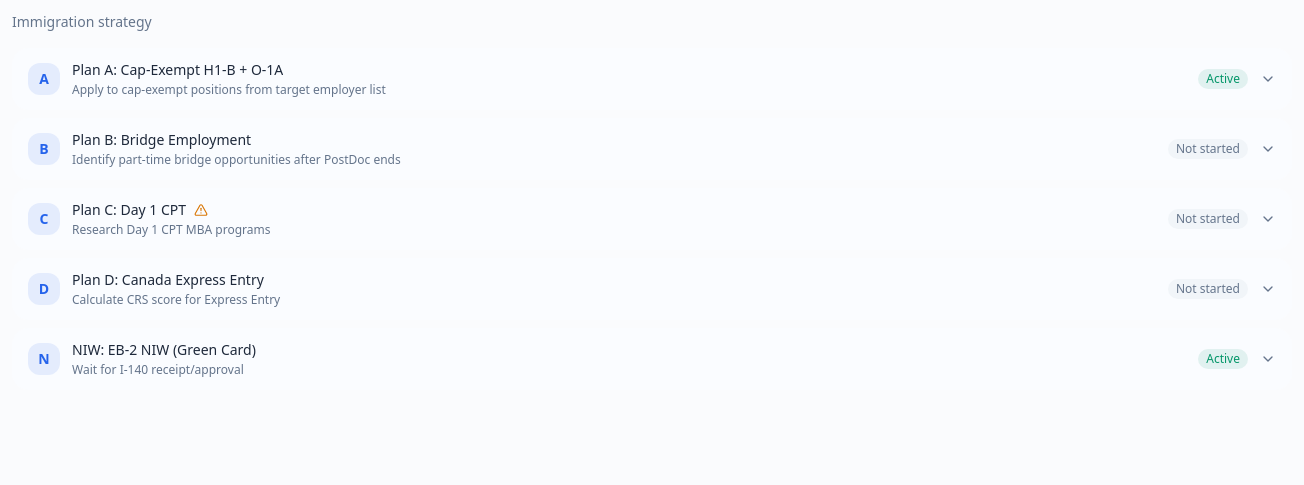
StrategyMap › click plan -> detail view with notes
Click the button that starts with "Plan A": [44, 79] box [12, 48, 1292, 110]
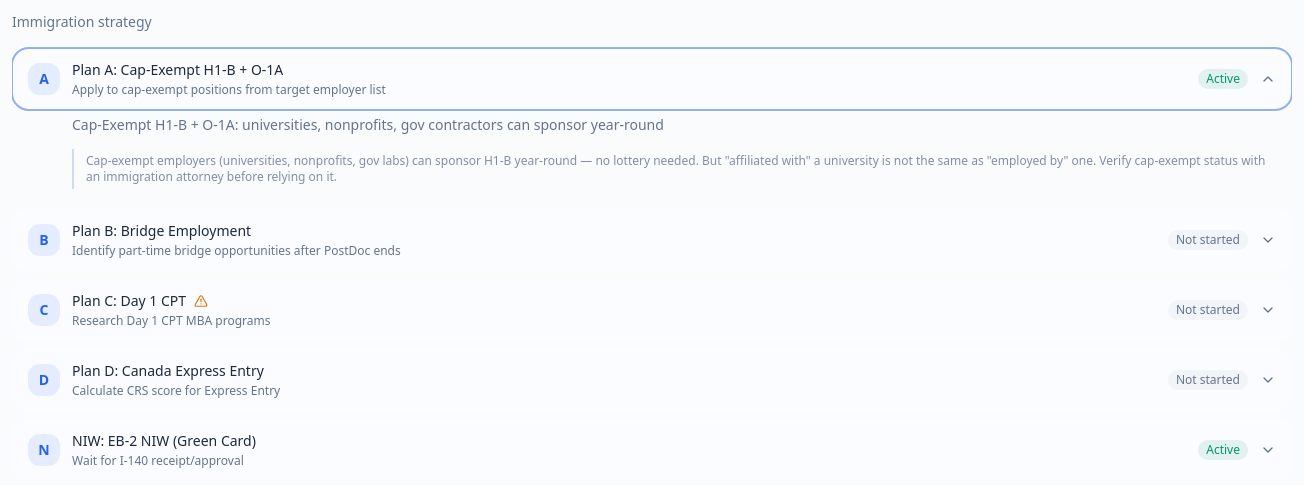
Check: the text "universities, nonprofits, gov contractors" is shown, box [72, 115, 664, 134]
